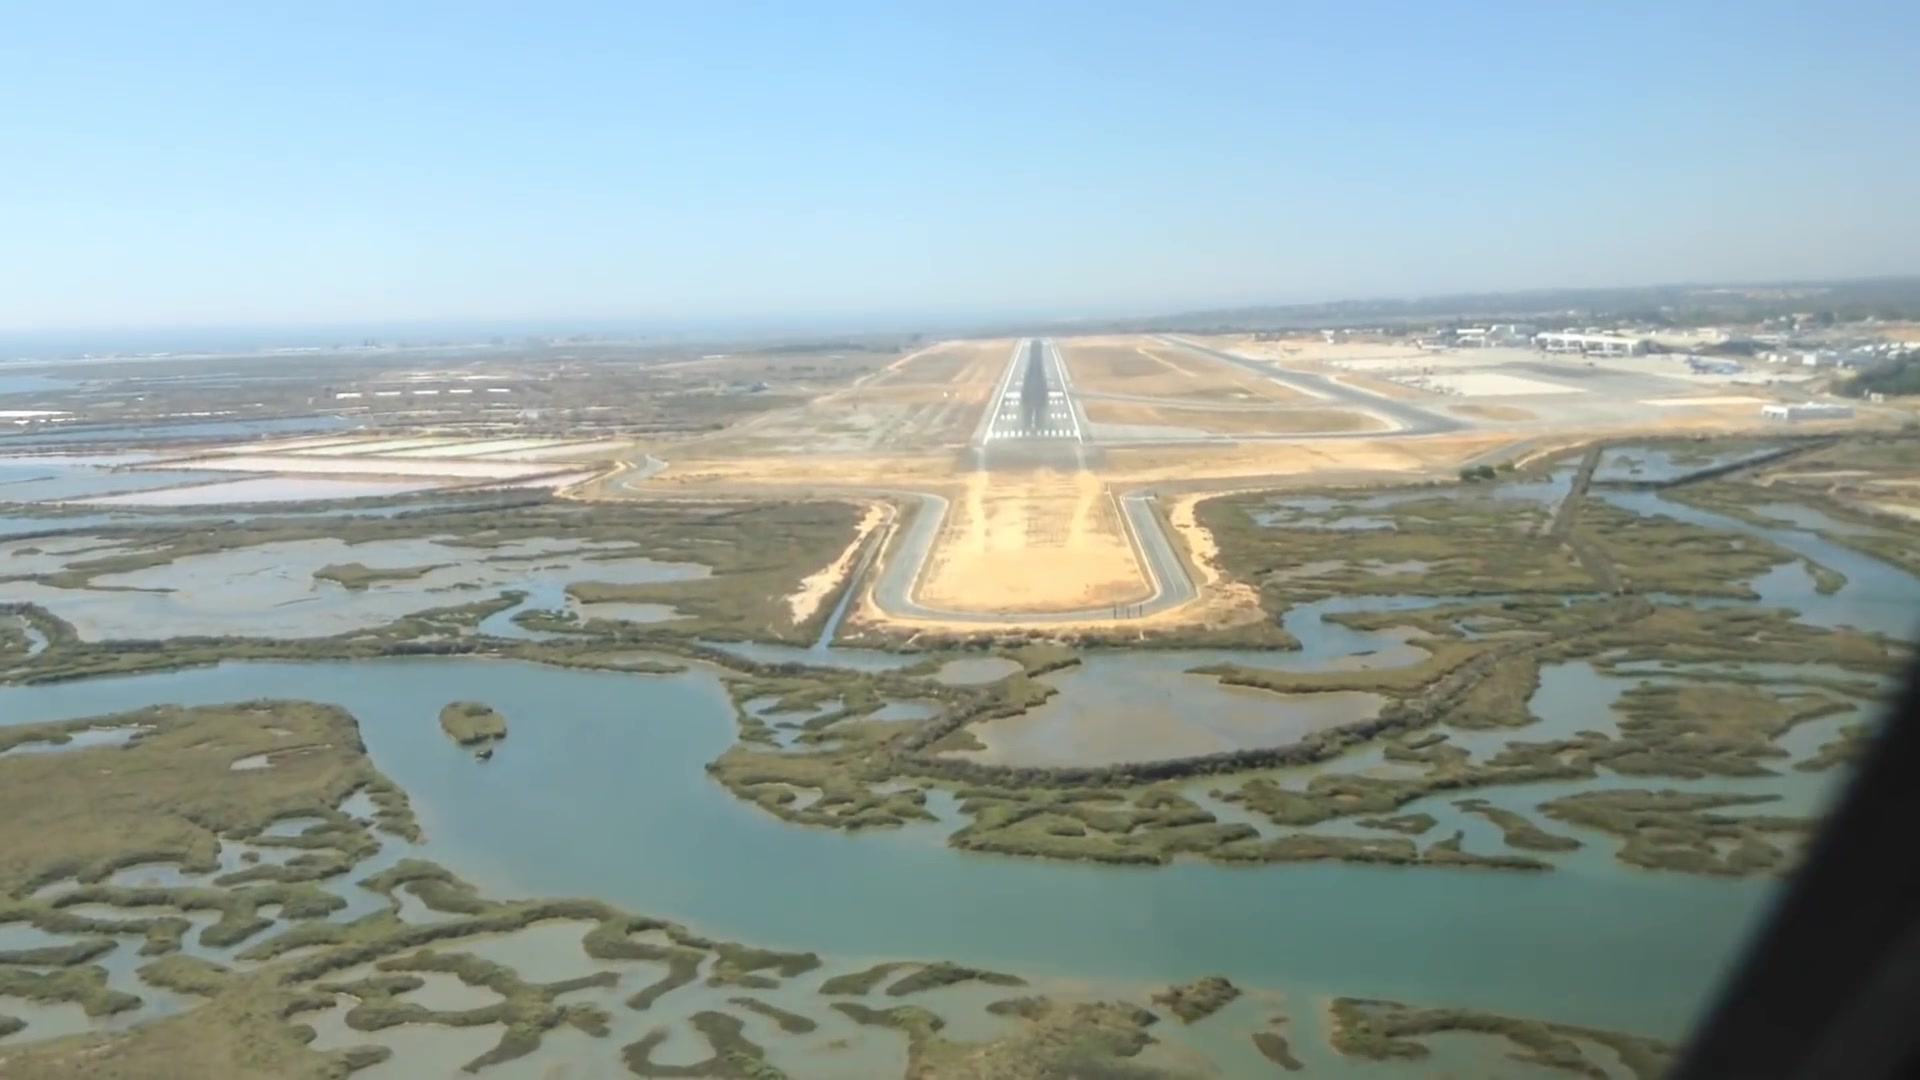entrance: (986, 427, 1083, 440)
runway: (978, 335, 1084, 450)
